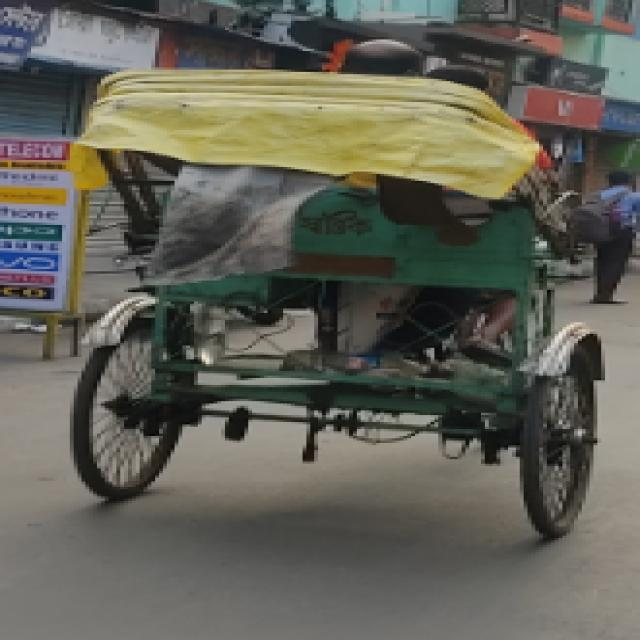rickshaw: (62, 65, 609, 556)
